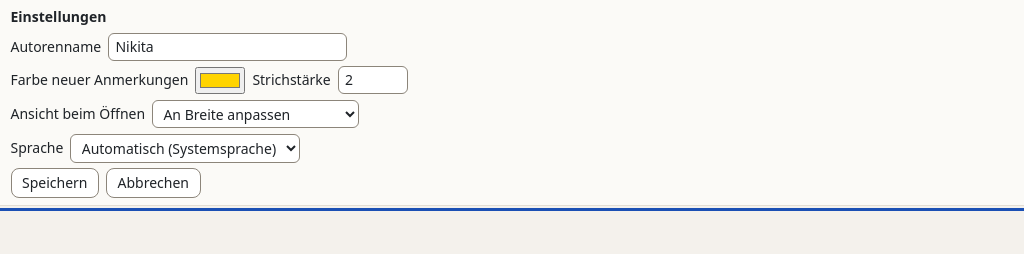
Test case: Einstellungen › lehnt eine Strichstaerke ausserhalb der Grenzen ab, ohne zu sichern
Replace the text in the number field with test id "einstellungen-strichstaerke" with "40" at coordinates (373, 80), box [338, 66, 408, 94]
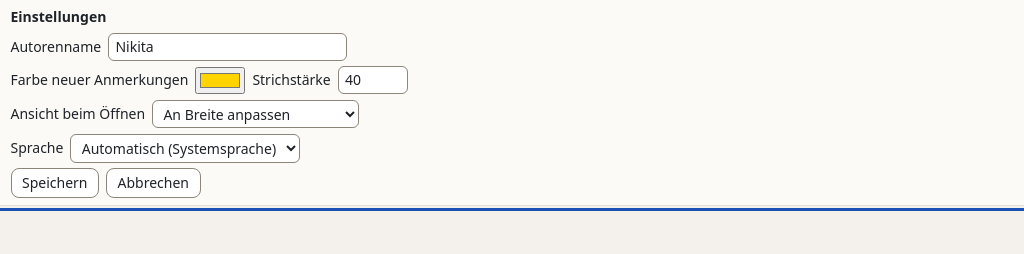
Click the button with test id "einstellungen-speichern" at coordinates (55, 183), box [10, 168, 99, 198]
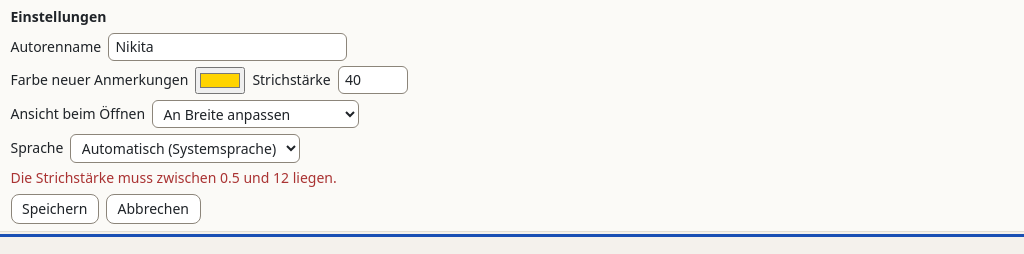
Check: the message shows "Strichstärke", box [10, 168, 337, 187]
